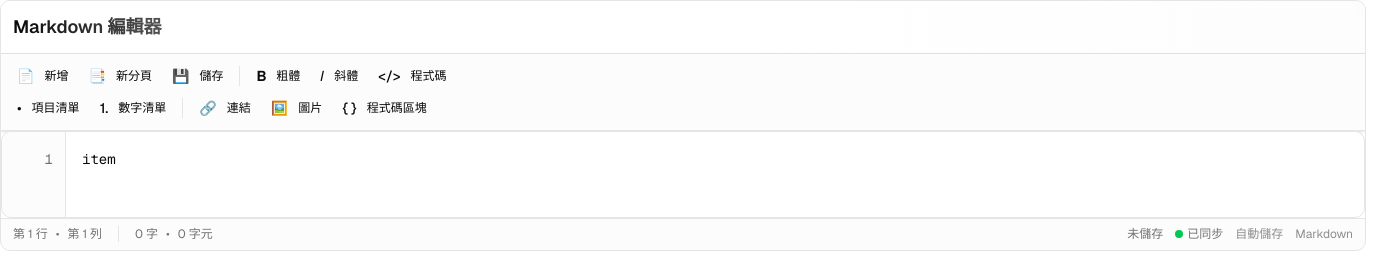
Test: EditorPanel › should handle list formatting
Click the button with test id "toolbar-bulletList" at [48, 108], box [9,94,88,122]
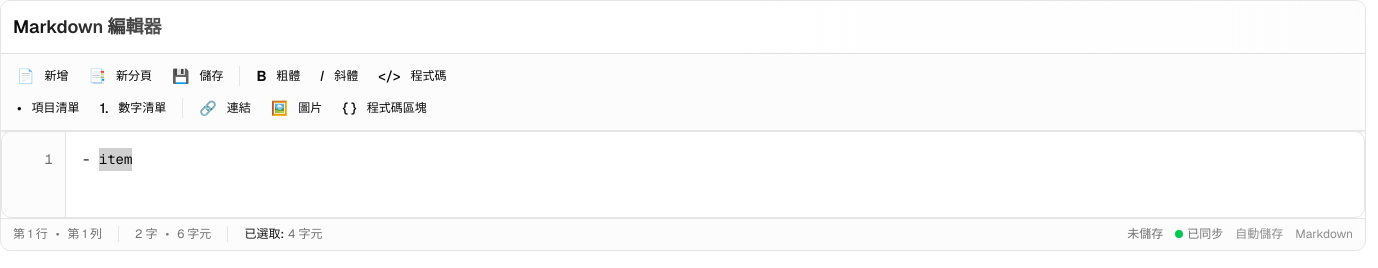
Check: the text box with test id "editor-textarea" holds "- item", box [66,132,1364,216]
